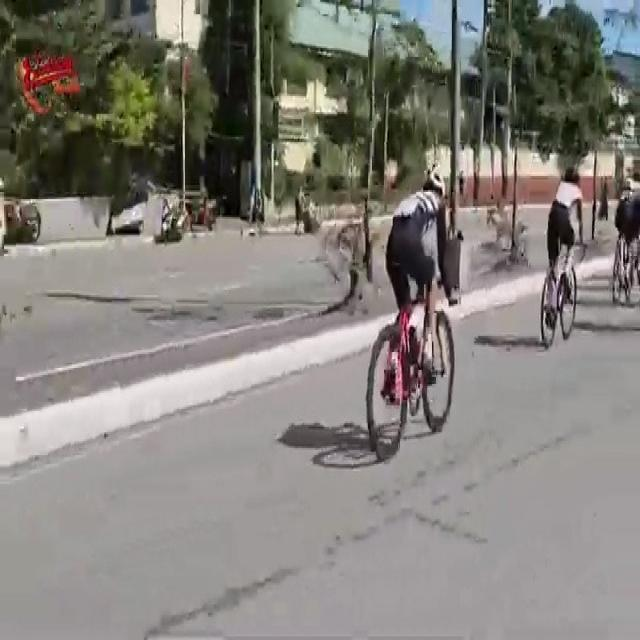bike: (364, 158, 459, 464), (538, 162, 586, 356), (609, 178, 639, 307)
